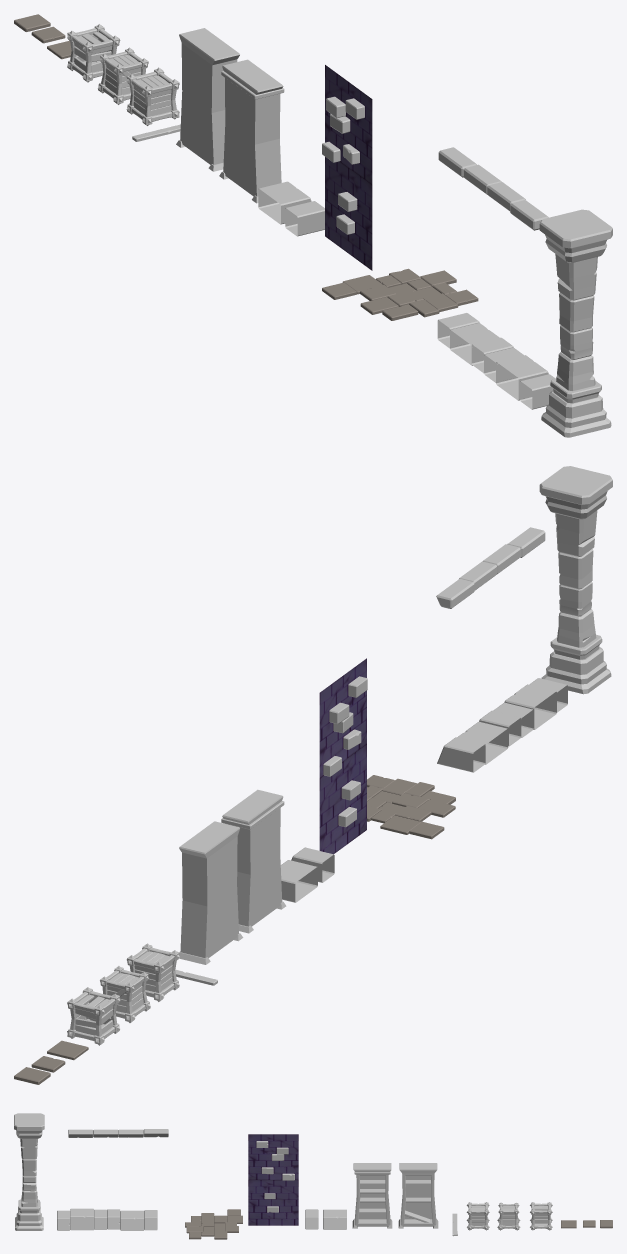
Rendered from All.fbx.
3 views of the same model, one above another, from view 1: azimuth 30°, elevation 25°; view 2: azimuth 150°, elevation 25°; view 3: azimuth 270°, elevation 25° (orthographic). The views are drawn at different scales.
Parts seen in each view (by area): view 1: Column_01, Wall_01, Closet_01.001, Closet_02, Step_Bot_01, Floor_01, Step_Top_01, Box_01, Box_03, Box_02, Step_Bot_solo_01, Step_Bot_solo_02; view 2: Column_01, Wall_01, Closet_02, Closet_01.001, Step_Bot_01, Floor_01, Step_Top_01, Box_03, Box_01, Box_02, Step_Bot_solo_01, Step_Bot_solo_02; view 3: Wall_01, Column_01, Closet_01.001, Closet_02, Step_Bot_01, Floor_01, Step_Top_01, Box_01, Box_03, Box_02, Step_Bot_solo_01, Step_Bot_solo_02.
Boxes of the visible parts, bbox=[...] form: Column_01: bbox=[539, 209, 612, 437]; Wall_01: bbox=[322, 65, 372, 270]; Closet_01.001: bbox=[219, 59, 284, 203]; Closet_02: bbox=[176, 28, 239, 171]; Step_Bot_01: bbox=[437, 313, 555, 409]; Floor_01: bbox=[322, 268, 478, 320]; Step_Top_01: bbox=[438, 147, 548, 230]; Box_01: bbox=[126, 67, 179, 125]; Box_03: bbox=[67, 24, 120, 82]; Box_02: bbox=[97, 47, 148, 104]; Step_Bot_solo_01: bbox=[258, 181, 311, 224]; Step_Bot_solo_02: bbox=[285, 201, 324, 236]; Column_01: bbox=[539, 466, 612, 694]; Wall_01: bbox=[319, 658, 367, 854]; Closet_02: bbox=[179, 821, 243, 964]; Closet_01.001: bbox=[221, 789, 286, 933]; Step_Bot_01: bbox=[437, 678, 567, 772]; Floor_01: bbox=[367, 775, 455, 839]; Step_Top_01: bbox=[436, 527, 545, 608]; Box_03: bbox=[67, 987, 120, 1045]; Box_01: bbox=[126, 943, 179, 1001]; Box_02: bbox=[100, 966, 150, 1022]; Step_Bot_solo_01: bbox=[280, 860, 317, 902]; Step_Bot_solo_02: bbox=[291, 847, 334, 882]; Wall_01: bbox=[248, 1134, 298, 1225]; Column_01: bbox=[14, 1113, 44, 1230]; Closet_01.001: bbox=[352, 1163, 392, 1228]; Closet_02: bbox=[398, 1163, 438, 1228]; Step_Bot_01: bbox=[57, 1208, 157, 1230]; Floor_01: bbox=[185, 1209, 242, 1239]; Step_Top_01: bbox=[68, 1129, 168, 1137]; Box_01: bbox=[466, 1202, 489, 1230]; Box_03: bbox=[530, 1202, 552, 1230]; Box_02: bbox=[497, 1202, 520, 1230]; Step_Bot_solo_01: bbox=[323, 1209, 346, 1229]; Step_Bot_solo_02: bbox=[305, 1209, 318, 1229].
Size of the model in its own units: 268 by 471 by 2383.
